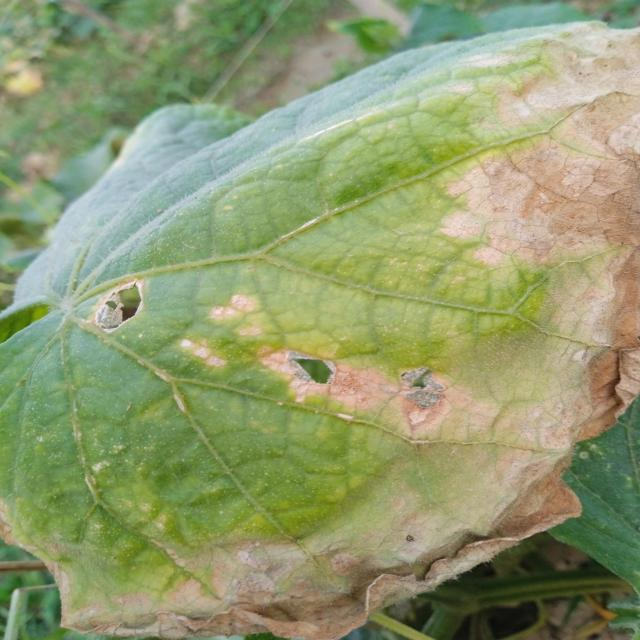cucumber_gummy: (0, 19, 640, 640)
